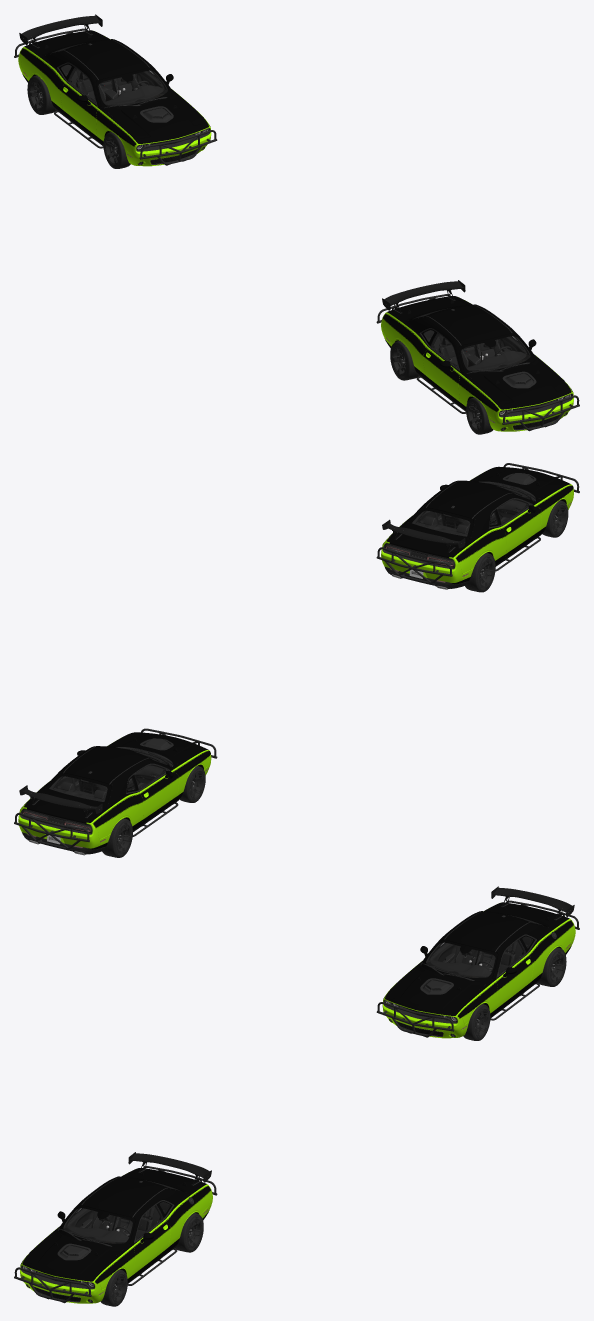
Rendered from recure car_2.glb.
The picture shows the model from 3 angles, top to bottom: view 1: azimuth 30°, elevation 25°; view 2: azimuth 150°, elevation 25°; view 3: azimuth 330°, elevation 25°; orthographic projection.
Parts seen in each view (by area): view 1: d:Paint_Geo_lodA_Paint_Geo_lodA_Dodge_ChallengerRTShakerF7_2 (×4), d:Coloured_Geo_lodA_Coloured_Geo_lodA_Dodge_ChallengerRTShak (×2), d:Window_Geo_lodA_Window_Geo_lodA_Dodge_ChallengerRTShakerF7 (×2), d:Interior_Geo_lodA_Interior_Geo_lodA_Dodge_ChallengerRTShak (×2); view 2: d:Paint_Geo_lodA_Paint_Geo_lodA_Dodge_ChallengerRTShakerF7_2 (×4), d:Coloured_Geo_lodA_Coloured_Geo_lodA_Dodge_ChallengerRTShak (×2), d:Window_Geo_lodA_Window_Geo_lodA_Dodge_ChallengerRTShakerF7 (×2), d:Interior_Geo_lodA_Interior_Geo_lodA_Dodge_ChallengerRTShak (×2); view 3: d:Paint_Geo_lodA_Paint_Geo_lodA_Dodge_ChallengerRTShakerF7_2 (×4), d:Coloured_Geo_lodA_Coloured_Geo_lodA_Dodge_ChallengerRTShak (×2), d:Window_Geo_lodA_Window_Geo_lodA_Dodge_ChallengerRTShakerF7 (×2), d:Interior_Geo_lodA_Interior_Geo_lodA_Dodge_ChallengerRTShak (×2).
Boxes of the visible parts, left/top/right/bottom form: d:Paint_Geo_lodA_Paint_Geo_lodA_Dodge_ChallengerRTShakerF7_2 (×4): left=18, top=30, right=573, bottom=431; d:Coloured_Geo_lodA_Coloured_Geo_lodA_Dodge_ChallengerRTShak (×2): left=14, top=14, right=579, bottom=431; d:Window_Geo_lodA_Window_Geo_lodA_Dodge_ChallengerRTShakerF7 (×2): left=52, top=41, right=570, bottom=429; d:Interior_Geo_lodA_Interior_Geo_lodA_Dodge_ChallengerRTShak (×2): left=58, top=48, right=530, bottom=370; d:Paint_Geo_lodA_Paint_Geo_lodA_Dodge_ChallengerRTShakerF7_2 (×4): left=18, top=466, right=573, bottom=849; d:Coloured_Geo_lodA_Coloured_Geo_lodA_Dodge_ChallengerRTShak (×2): left=14, top=463, right=579, bottom=855; d:Window_Geo_lodA_Window_Geo_lodA_Dodge_ChallengerRTShakerF7 (×2): left=24, top=485, right=529, bottom=829; d:Interior_Geo_lodA_Interior_Geo_lodA_Dodge_ChallengerRTShak (×2): left=49, top=486, right=529, bottom=801; d:Paint_Geo_lodA_Paint_Geo_lodA_Dodge_ChallengerRTShakerF7_2 (×4): left=20, top=902, right=575, bottom=1303; d:Coloured_Geo_lodA_Coloured_Geo_lodA_Dodge_ChallengerRTShak (×2): left=14, top=886, right=579, bottom=1303; d:Window_Geo_lodA_Window_Geo_lodA_Dodge_ChallengerRTShakerF7 (×2): left=23, top=913, right=541, bottom=1301; d:Interior_Geo_lodA_Interior_Geo_lodA_Dodge_ChallengerRTShak (×2): left=63, top=920, right=535, bottom=1243.
Size of the model in its own units: 0.0218 by 0.0149 by 0.1968.
40 materials, 26 textured.
